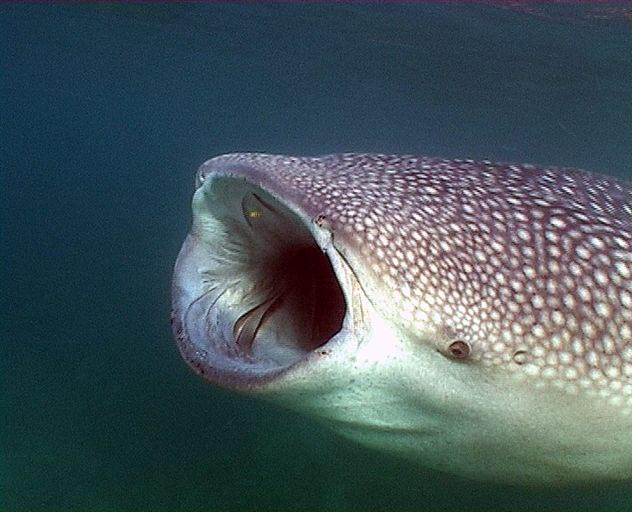Rhincodon_typusw: (149, 118, 632, 491)
